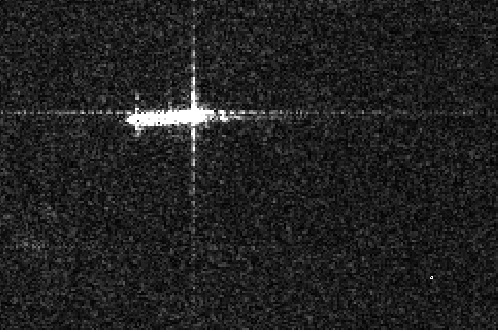ship: (124, 105, 221, 129)
